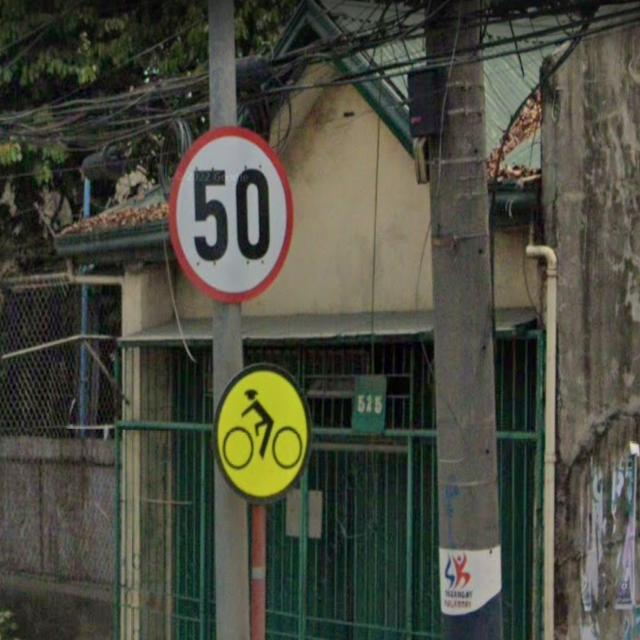50 kph: (170, 127, 294, 303)
bike lane: (211, 362, 309, 501)
